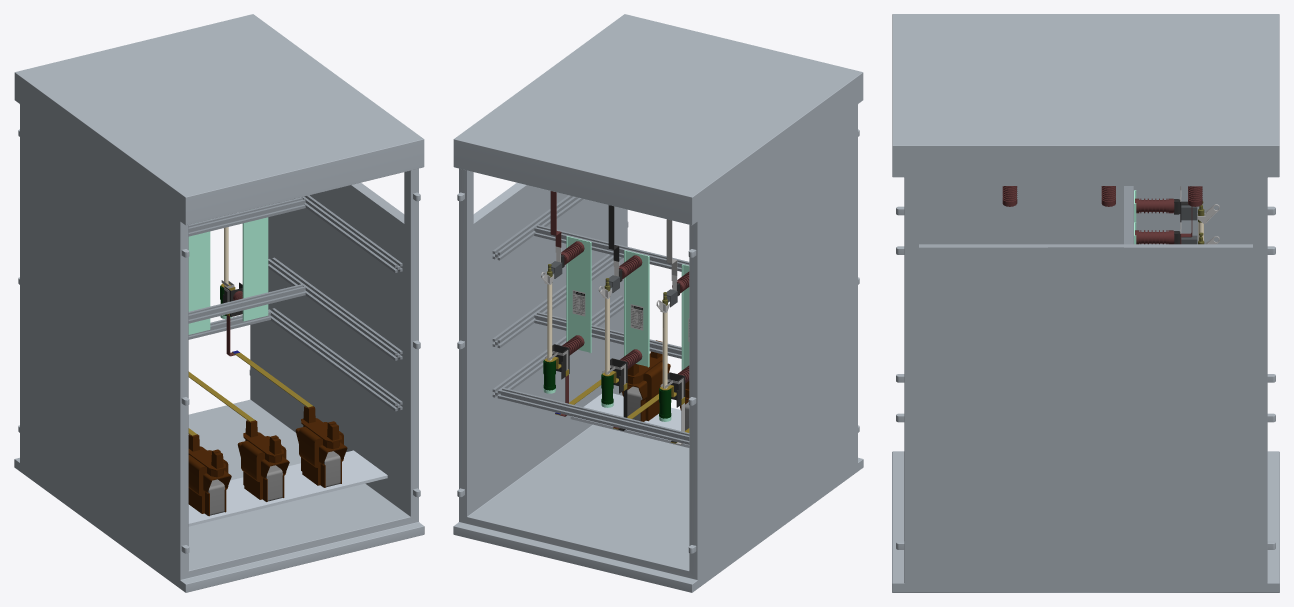
Rendered from PT_ALL.fbx.
3 views of the same model, side by side, from view 1: azimuth 30°, elevation 25°; view 2: azimuth 150°, elevation 25°; view 3: azimuth 270°, elevation 25° (orthographic). The views are drawn at different scales.
Parts seen in each view (by area): view 1: PT_all; view 2: PT_all; view 3: PT_all.
Part boxes in pixels (x1,y1,x2,y2): PT_all: [14, 14, 424, 592]; PT_all: [453, 14, 863, 592]; PT_all: [892, 14, 1279, 592].
Size of the model in its own units: 1.29 by 2.04 by 1.61.
2 materials, 2 textured.
